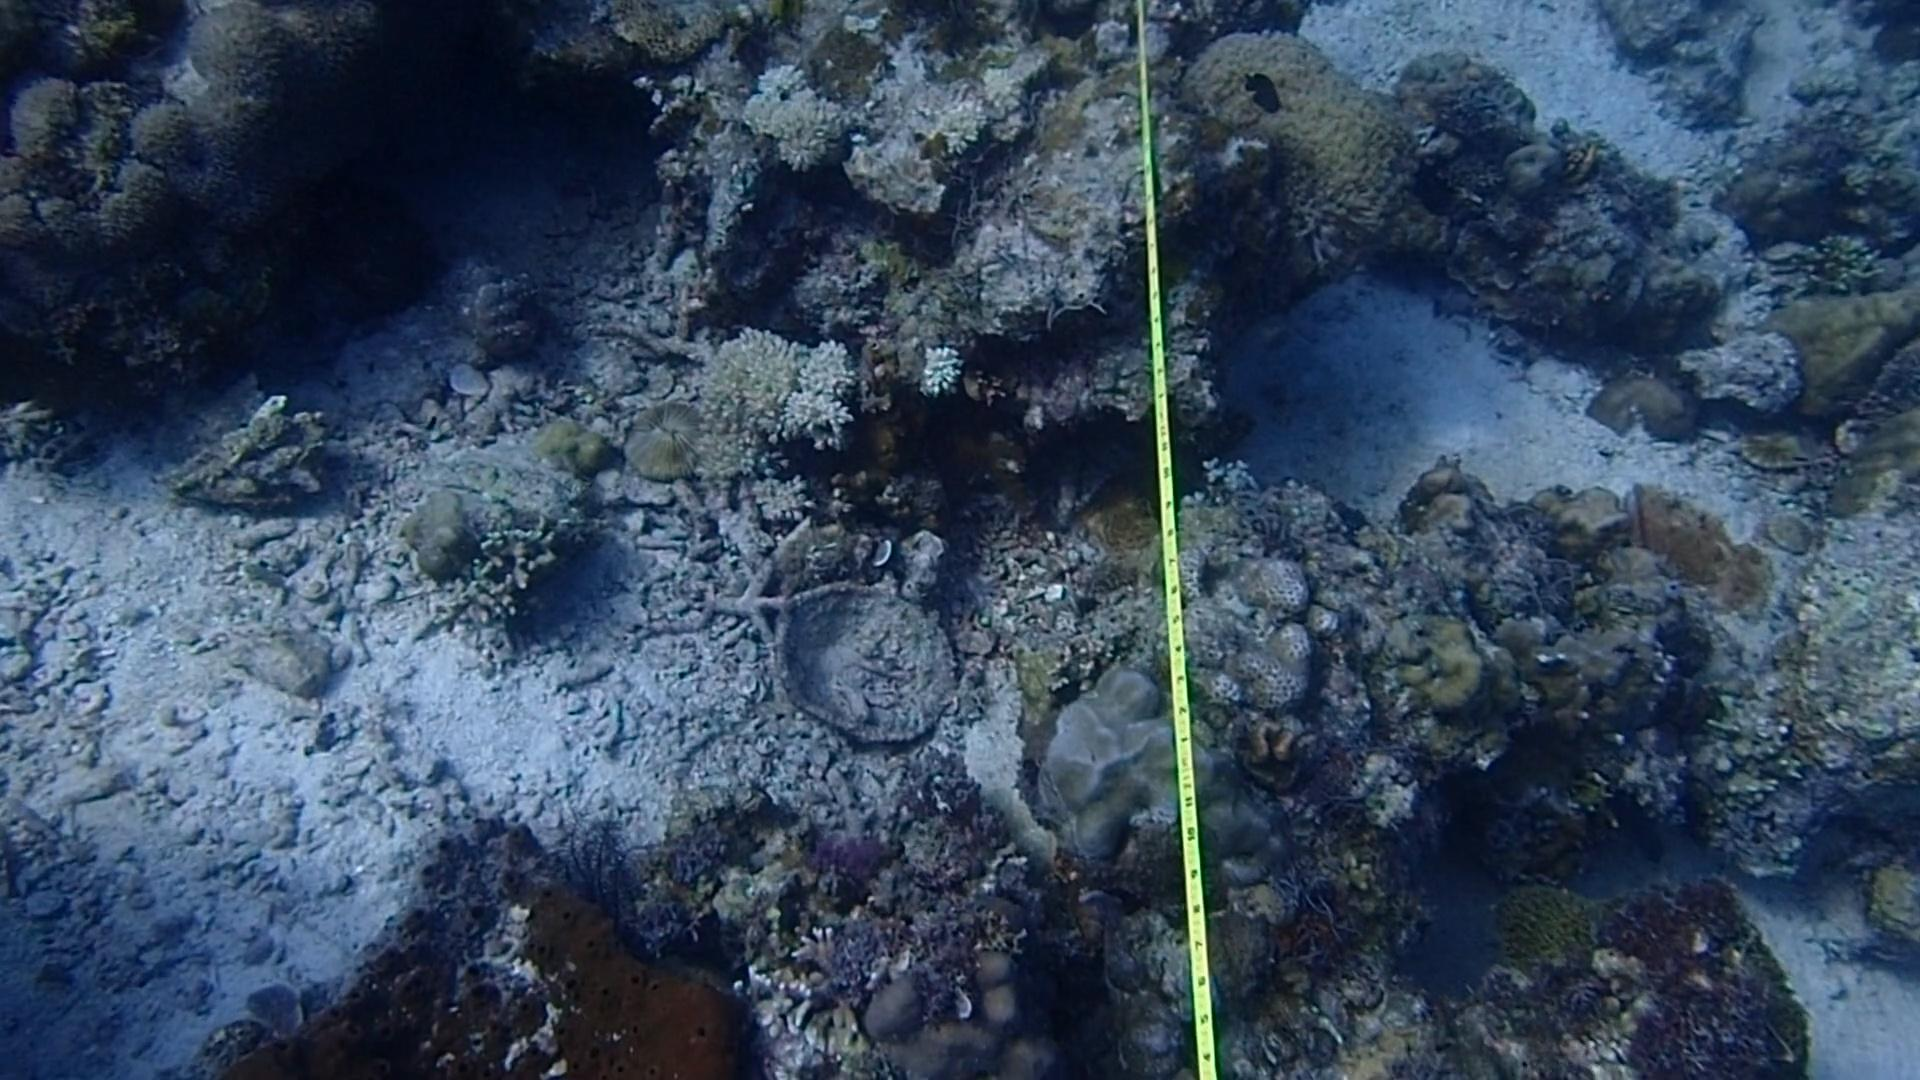Dark Fish: (1598, 779, 1677, 880), (1398, 150, 1462, 225), (1236, 61, 1284, 117)
